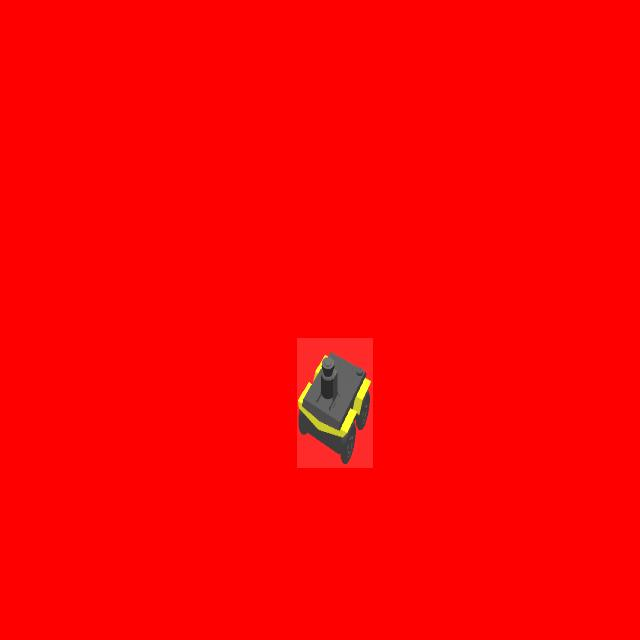jackal: (297, 338, 373, 468)
